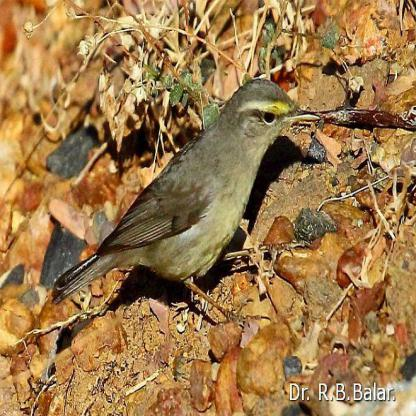Burung: (52, 79, 317, 316)
